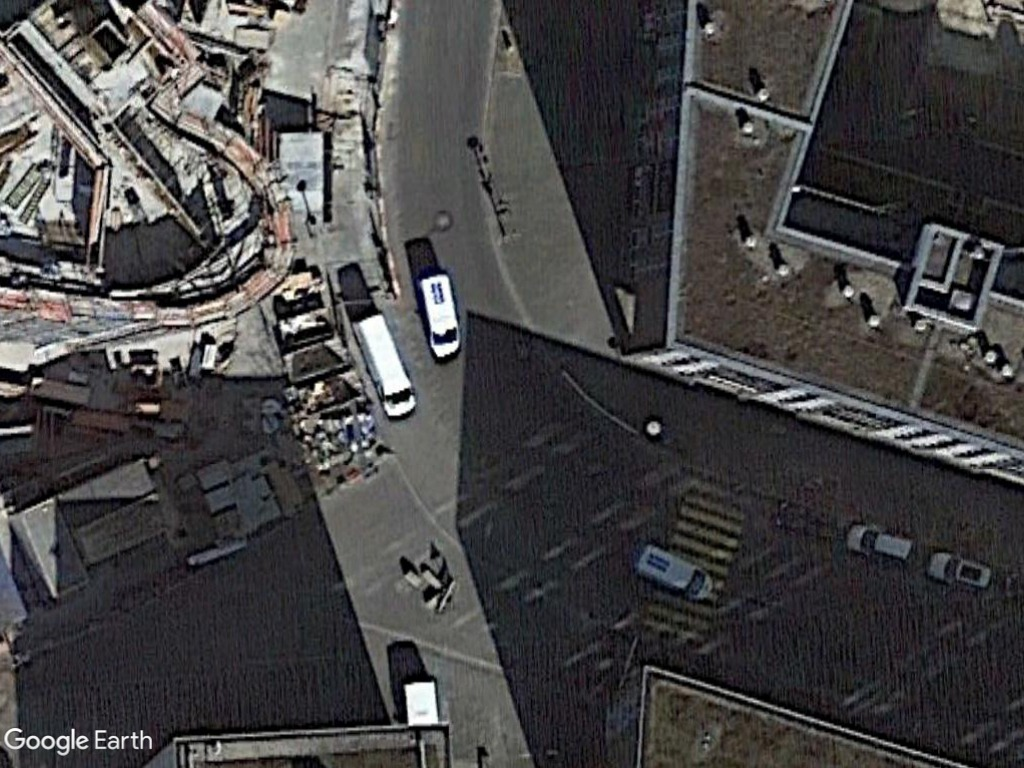car: (922, 543, 997, 599), (840, 519, 920, 568)
van: (349, 309, 424, 424), (630, 538, 719, 605), (413, 267, 469, 365)
